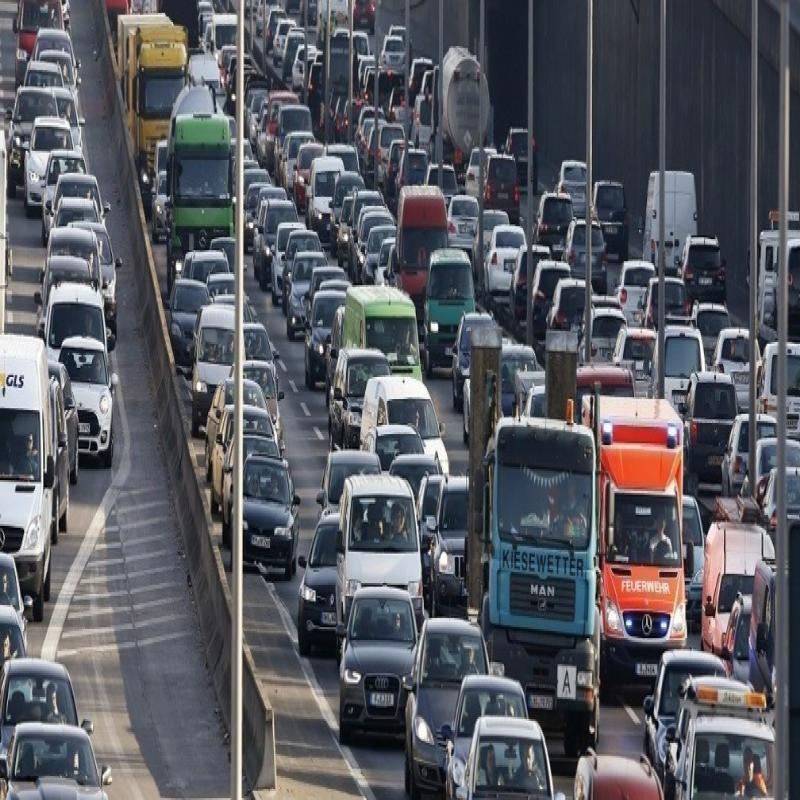car: (385, 597, 497, 795), (342, 474, 429, 664), (441, 677, 542, 783), (637, 640, 716, 774), (361, 370, 449, 474), (51, 350, 120, 466), (297, 497, 346, 657), (465, 726, 560, 800), (673, 368, 731, 489), (237, 448, 291, 563), (425, 258, 465, 381), (332, 346, 380, 442)
